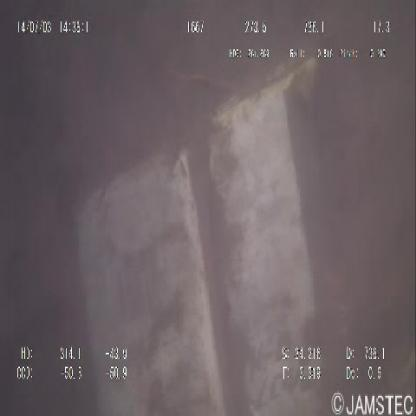Rác: (51, 49, 358, 416)
